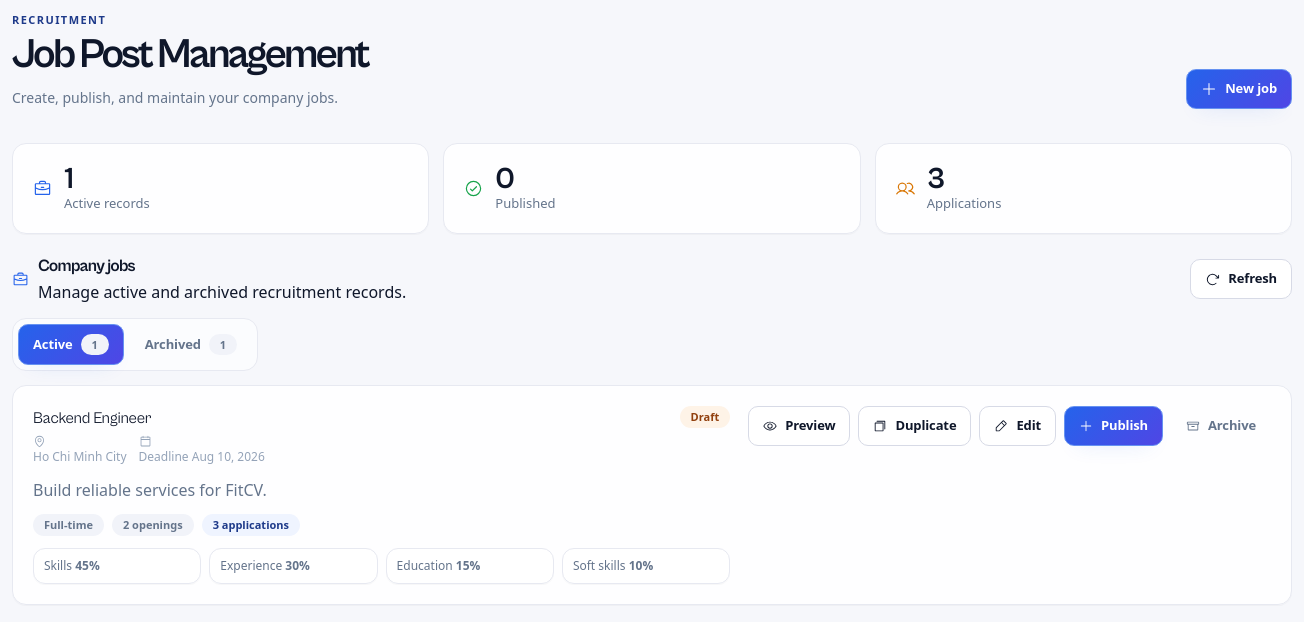
Test: JobPostsScreen › loads active and archived jobs into separate accessible tabs
expect the heading "Backend Engineer" is shown: met, box [33,409,151,427]
Click the tab "Archived 1": {"x": 191, "y": 345} [130,324,252,365]
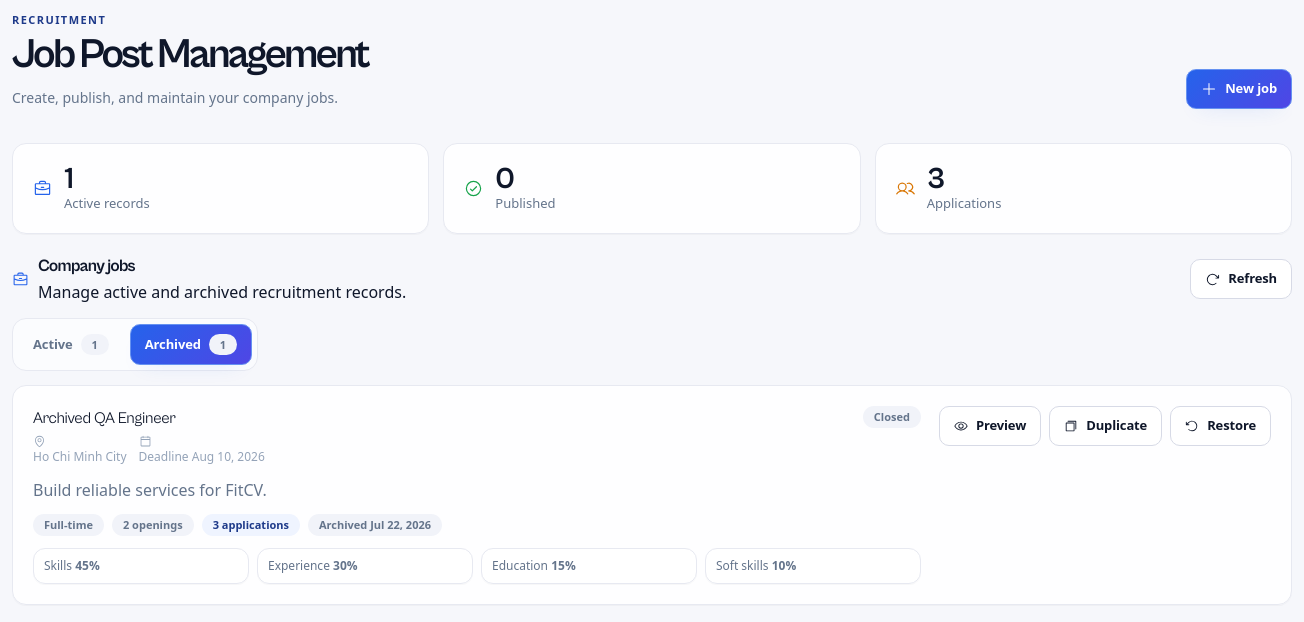
expect the heading "Archived QA Engineer" is shown: met, box [33,409,176,427]
expect the heading "Backend Engineer" is gone: met
